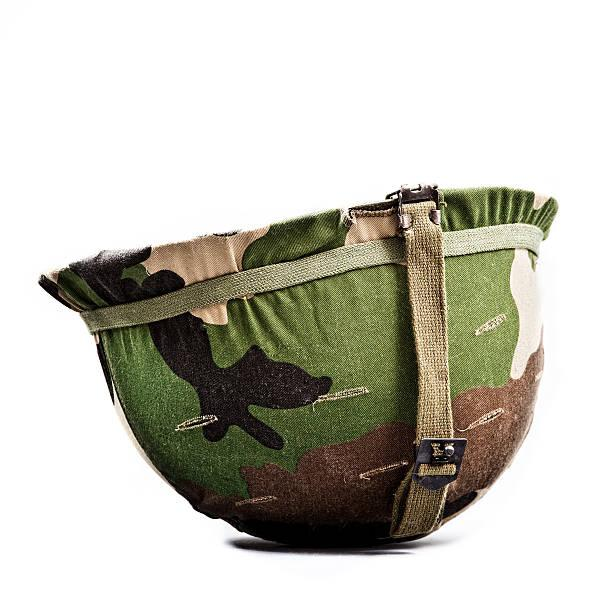helmet: (28, 149, 612, 567)
